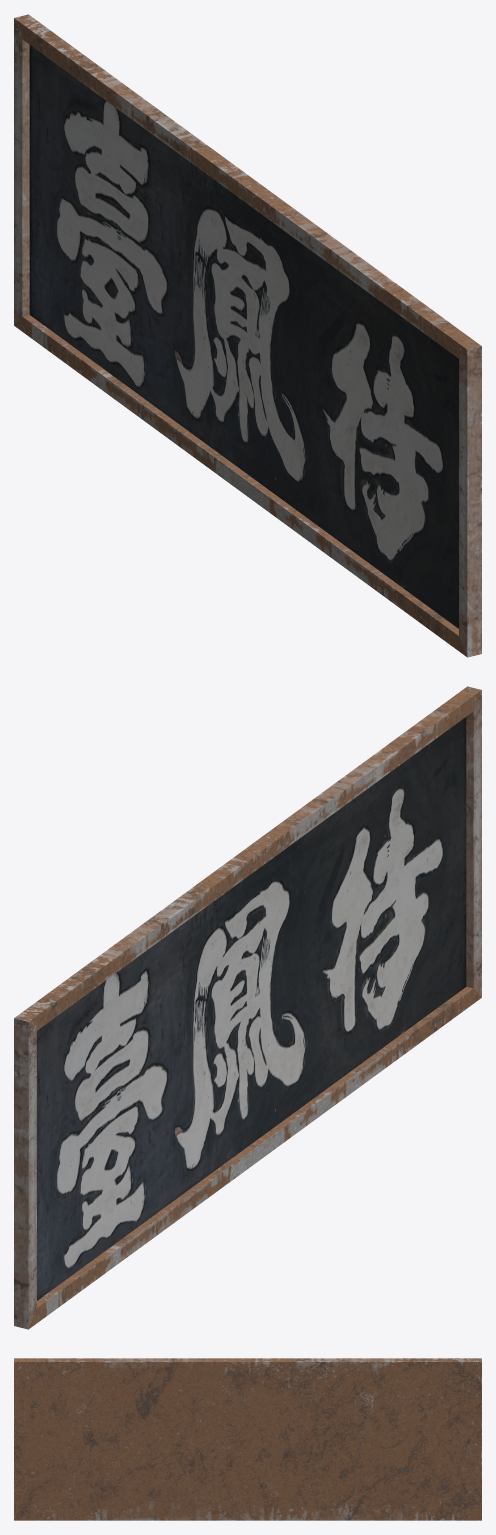
Rendered from SM_CJ_Tablet.fbx.
3 renders of one model, top to bottom at view 1: azimuth 30°, elevation 25°; view 2: azimuth 150°, elevation 25°; view 3: azimuth 270°, elevation 25°, orthographic. The views are drawn at different scales.
Parts seen in each view (by area): view 1: SM_CJ_Tablet; view 2: SM_CJ_Tablet; view 3: SM_CJ_Tablet.
Boxes of the visible parts, x1,y1,x2,y2 form: SM_CJ_Tablet: (14,14,481,657); SM_CJ_Tablet: (14,686,481,1329); SM_CJ_Tablet: (14,1358,481,1520).
Bounding box in the file's own units: 2.5 × 135 × 50.46.
1 material, 1 textured.
